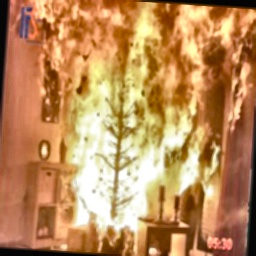fire: (10, 0, 256, 240)
